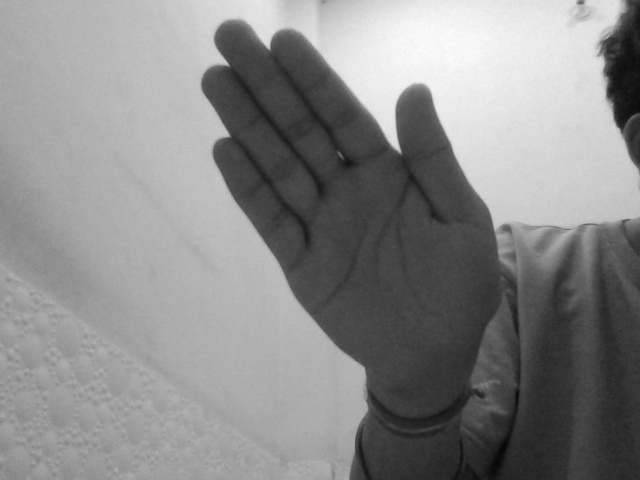Hello: (191, 14, 505, 404)
